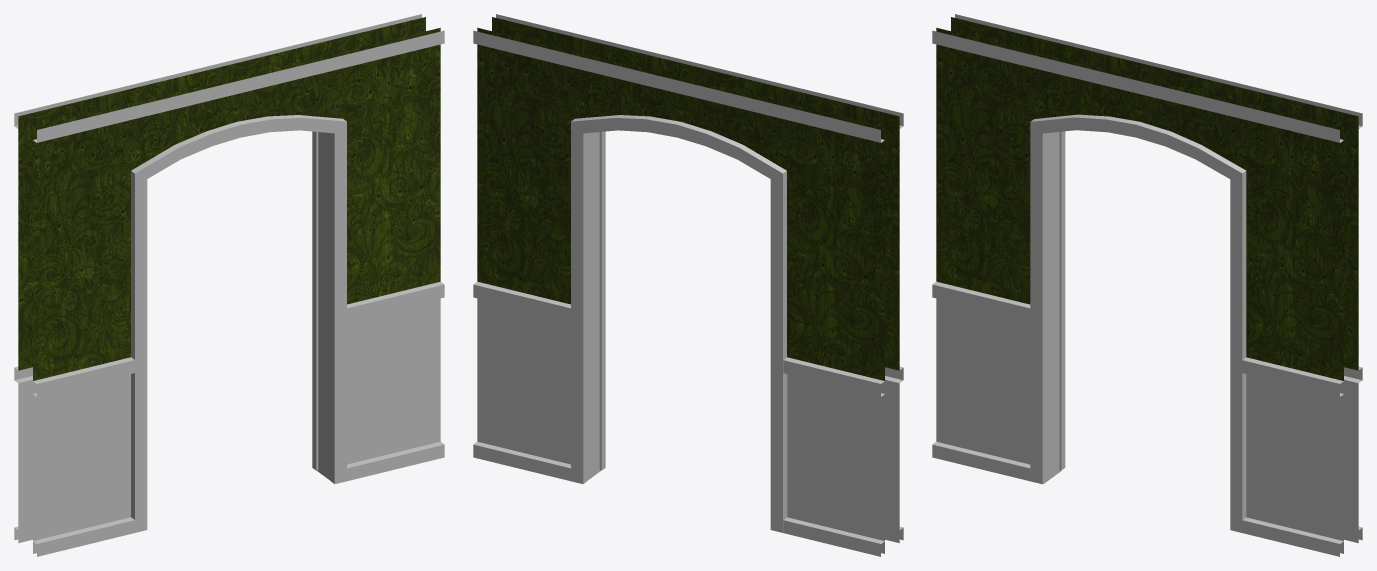
Rendered from factory_office_01_doorway.DAE.
3 views of the same model, side by side, from view 1: azimuth 30°, elevation 25°; view 2: azimuth 150°, elevation 25°; view 3: azimuth 330°, elevation 25° (orthographic).
Visible parts, largest first — view 1: Object154, Object153; view 2: Object154, Object153; view 3: Object154, Object153.
Boxes of the visible parts, <box> form: Object154: <box>14,14,444,556</box>; Object153: <box>18,17,440,380</box>; Object154: <box>473,14,903,556</box>; Object153: <box>477,17,899,380</box>; Object154: <box>932,14,1362,556</box>; Object153: <box>936,17,1358,380</box>.
Bounding box in the file's own units: 4 × 4.02 × 0.384.
